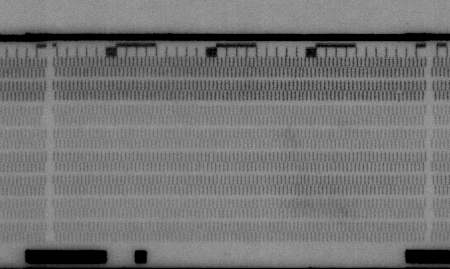Oblique printing: (393, 91, 406, 106)
